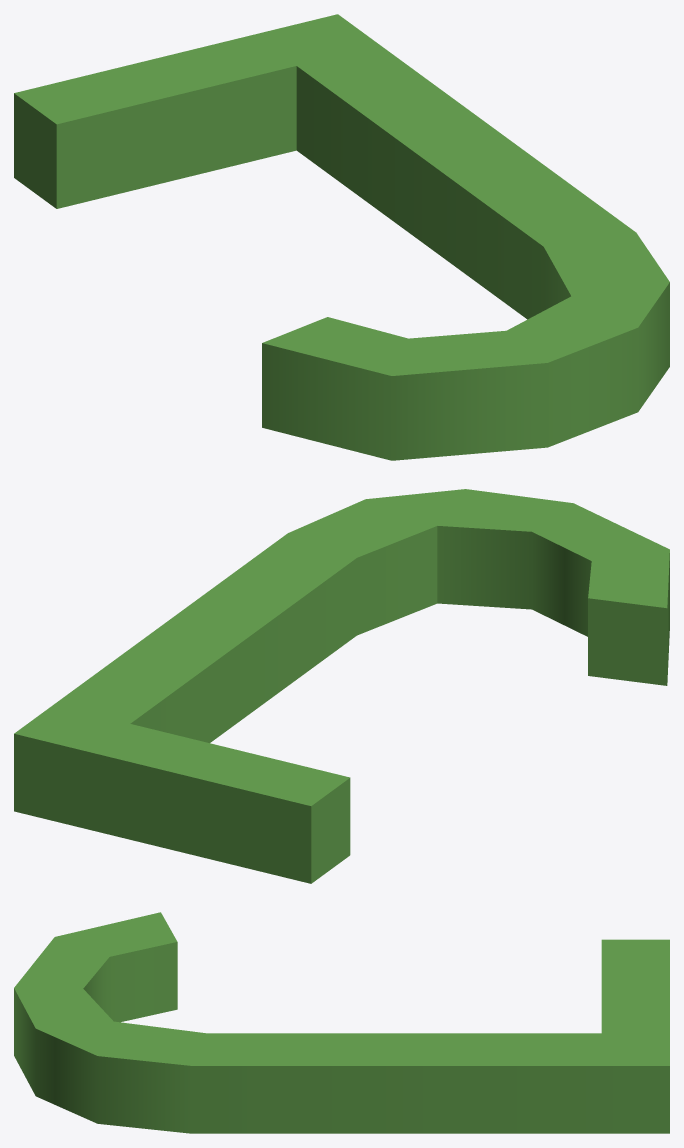
The picture shows the model from 3 angles, top to bottom: view 1: azimuth 30°, elevation 25°; view 2: azimuth 150°, elevation 25°; view 3: azimuth 270°, elevation 25°; orthographic projection. The views are drawn at different scales.
Parts seen in each view (by area): view 1: J; view 2: J; view 3: J.
Boxes of the visible parts, <box> form: J: <box>14,14,669,460</box>; J: <box>14,489,669,883</box>; J: <box>14,912,669,1133</box>.
Bounding box in the file's own units: 0.1222 × 0.0251 × 0.2202.
